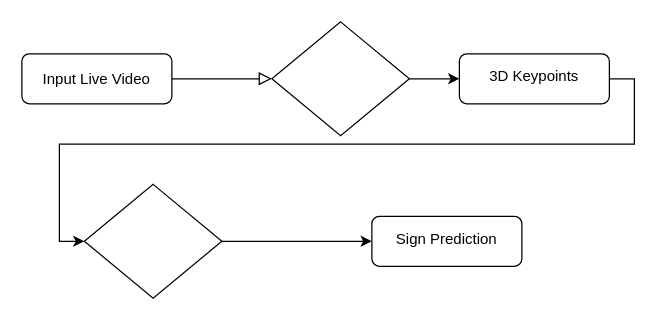
The diagram is 666 pixels wide and 320 high, and some of its shapes have lost their labels. Here are the shapes that lost their labels. From the top down, the centre of each, then its label:
[340,78]: Media Pipe Framework
[152,240]: Our Model (LSTM)
